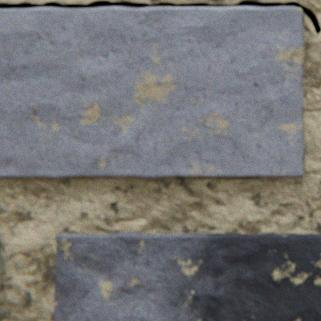brick: (0, 7, 304, 177), (55, 231, 320, 320)
broken_brick: (0, 233, 2, 320)
crack: (0, 0, 320, 33)
